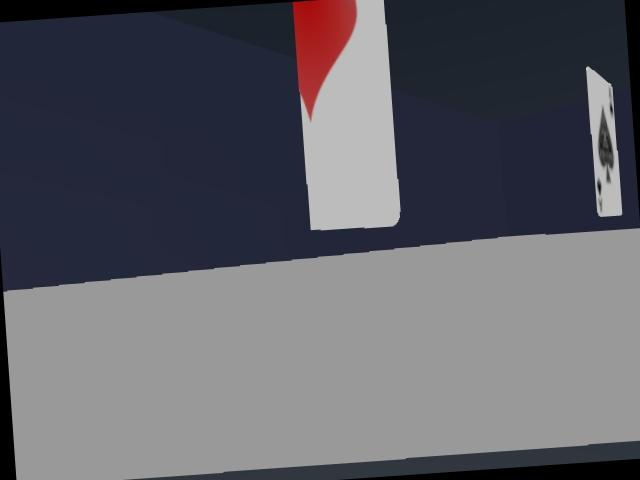heart: (293, 0, 400, 230)
spade: (586, 67, 621, 216)
